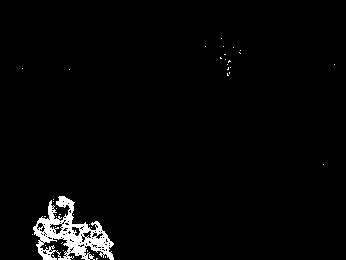person: (32, 194, 119, 260)
